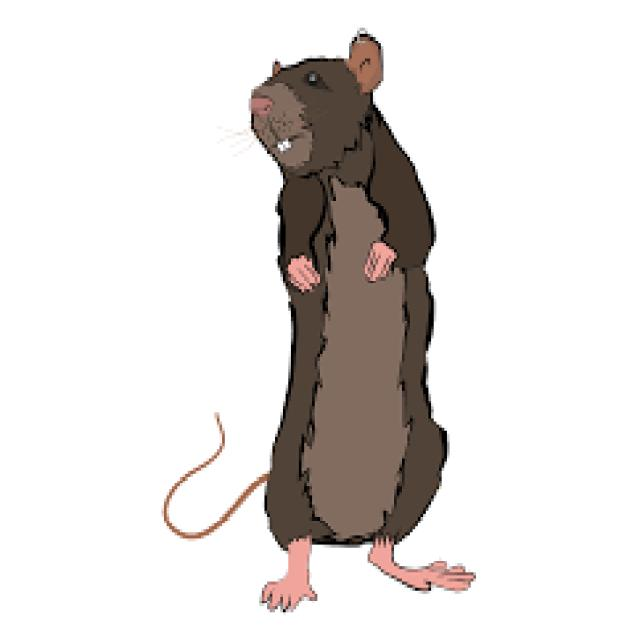rat: (161, 25, 476, 612)
